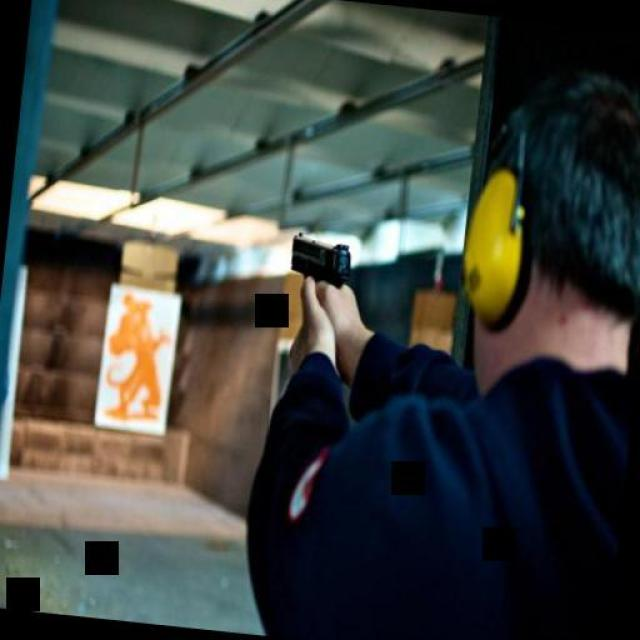gun: (278, 215, 362, 326)
